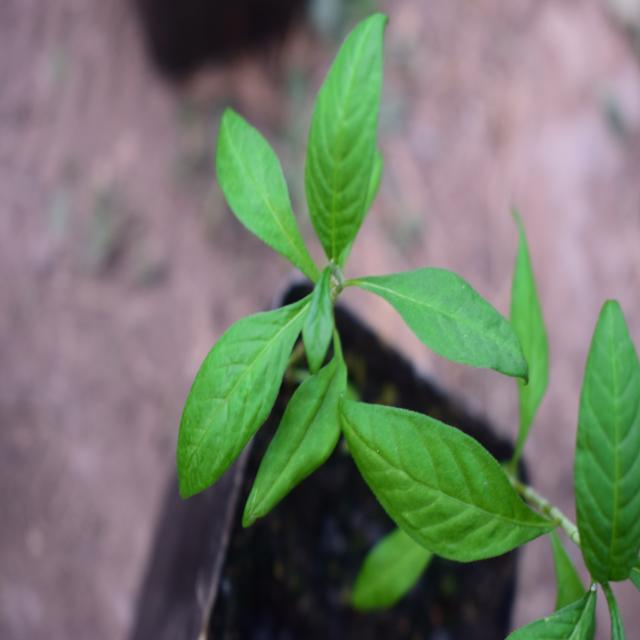white_smart_weed: (174, 0, 552, 528)
